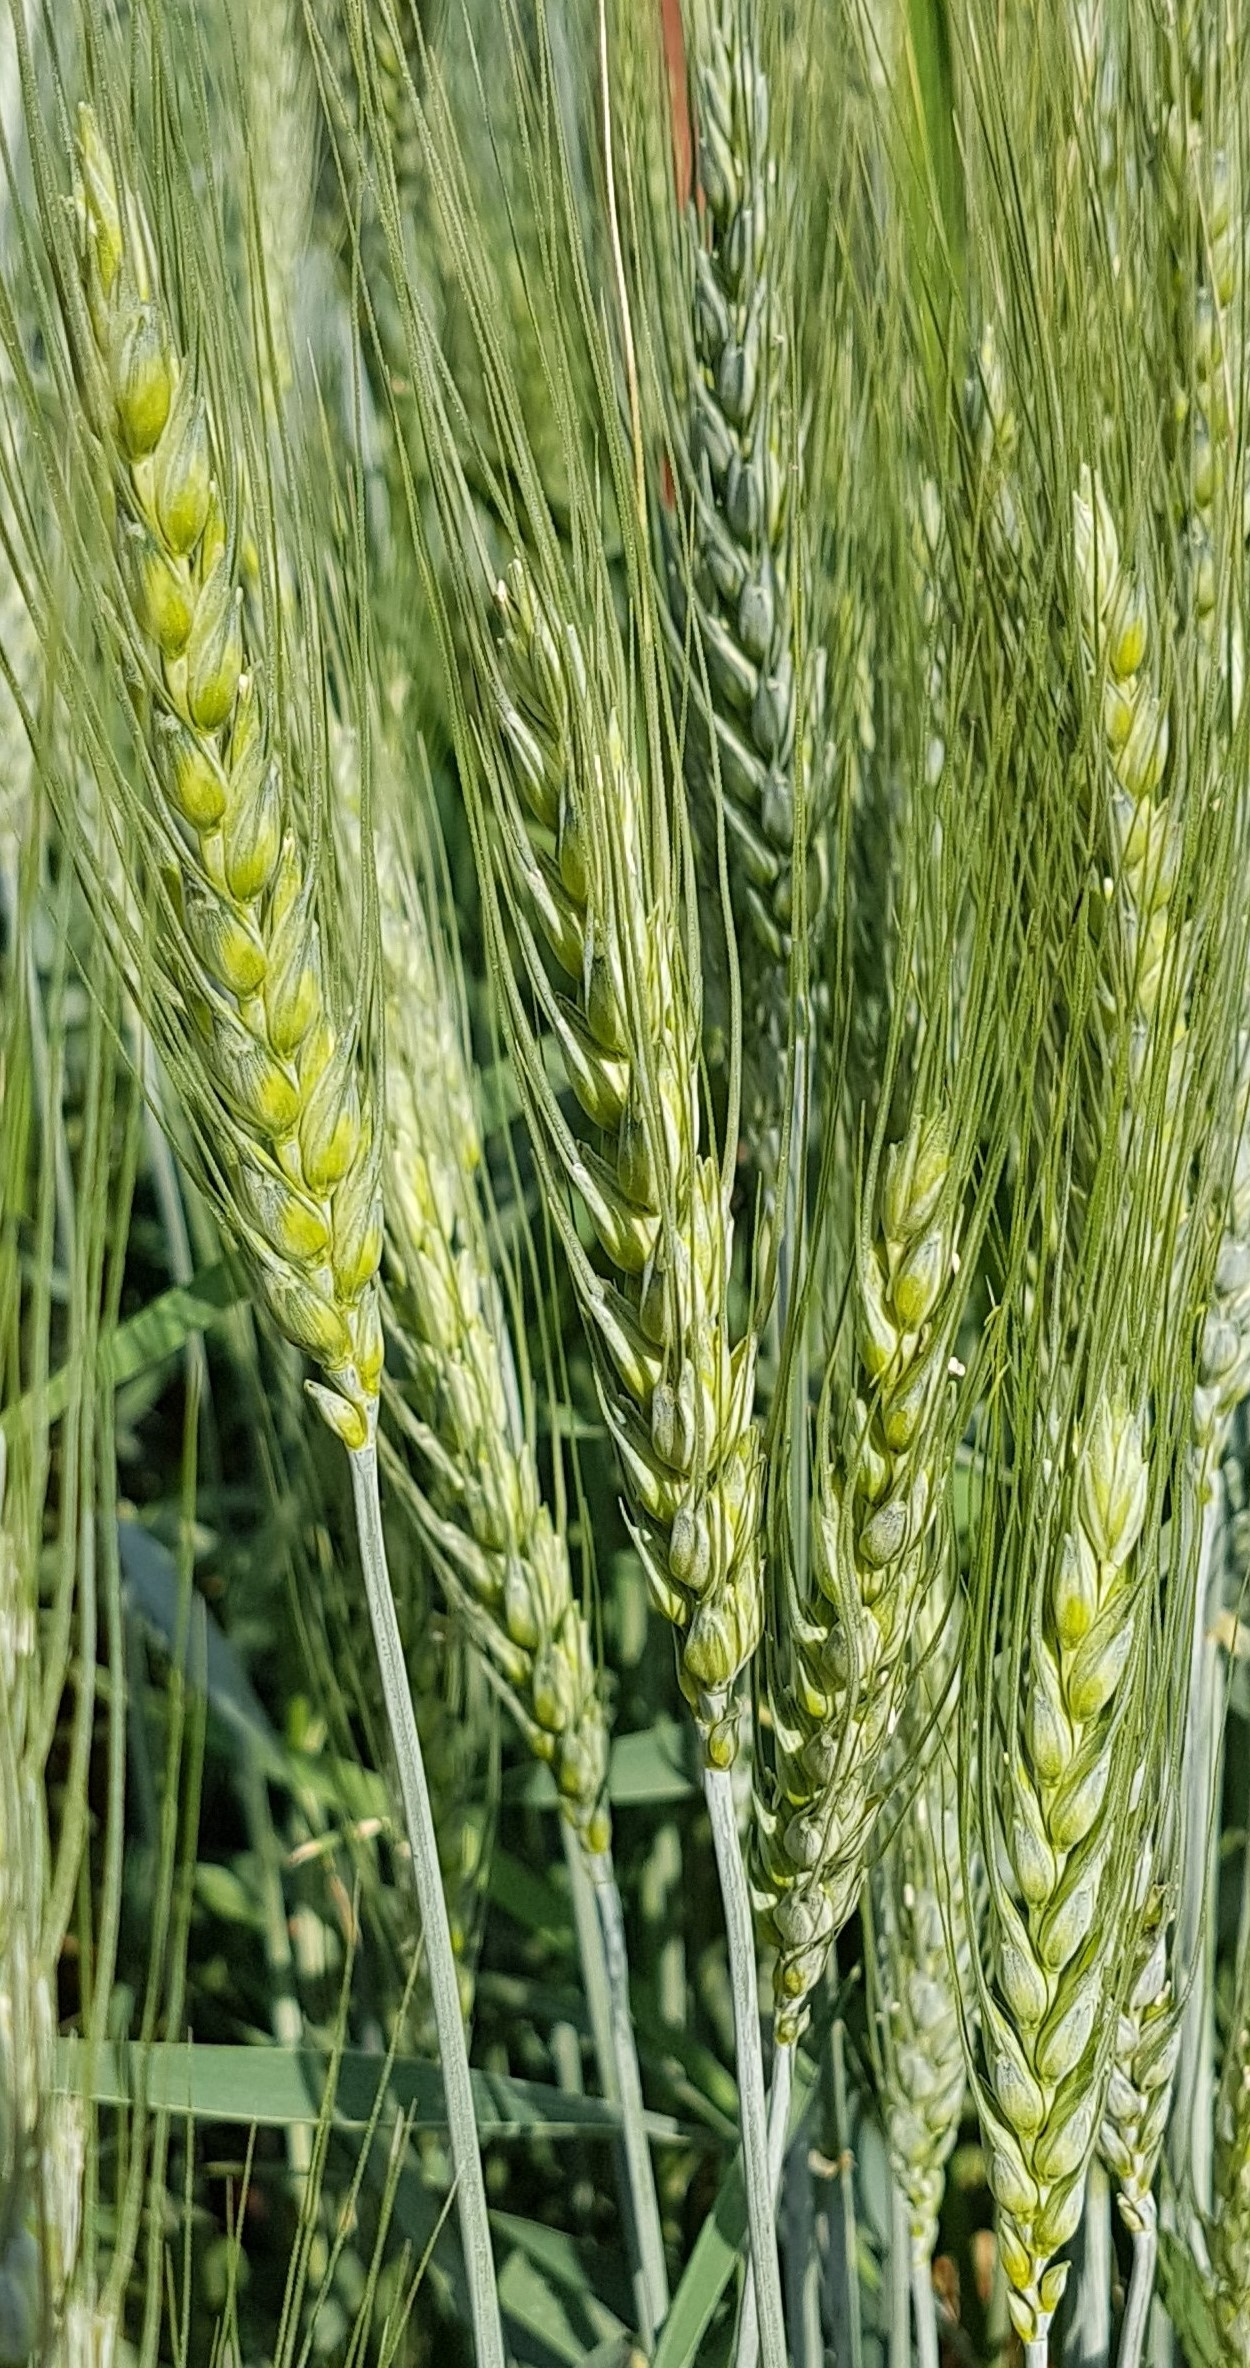Healthy Wheat: (45, 132, 396, 1435), (454, 584, 779, 1688), (970, 1374, 1220, 2307)
